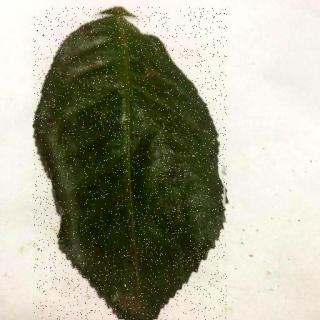Red Leaf Spot: (34, 8, 228, 320)
